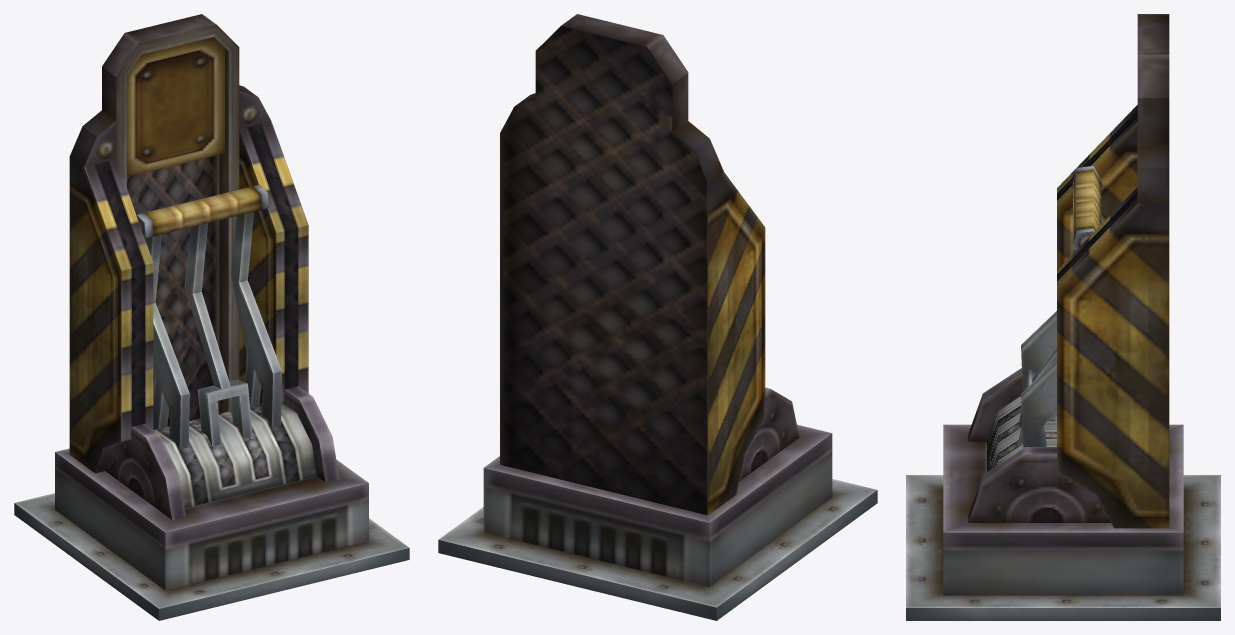
The model's file is m_tunnellever00.glb.
3 views of the same model, side by side, from view 1: azimuth 30°, elevation 25°; view 2: azimuth 150°, elevation 25°; view 3: azimuth 270°, elevation 25° (orthographic). The views are drawn at different scales.
Visible parts, largest first — view 1: m_tunnellever00; view 2: m_tunnellever00; view 3: m_tunnellever00.
Part boxes in pixels (x1,y1,x2,y2): m_tunnellever00: [14, 14, 409, 620]; m_tunnellever00: [438, 14, 877, 620]; m_tunnellever00: [906, 14, 1220, 620].
Size of the model in its own units: 0.9911 by 1.81 by 0.9922.
1 material, 1 textured.
